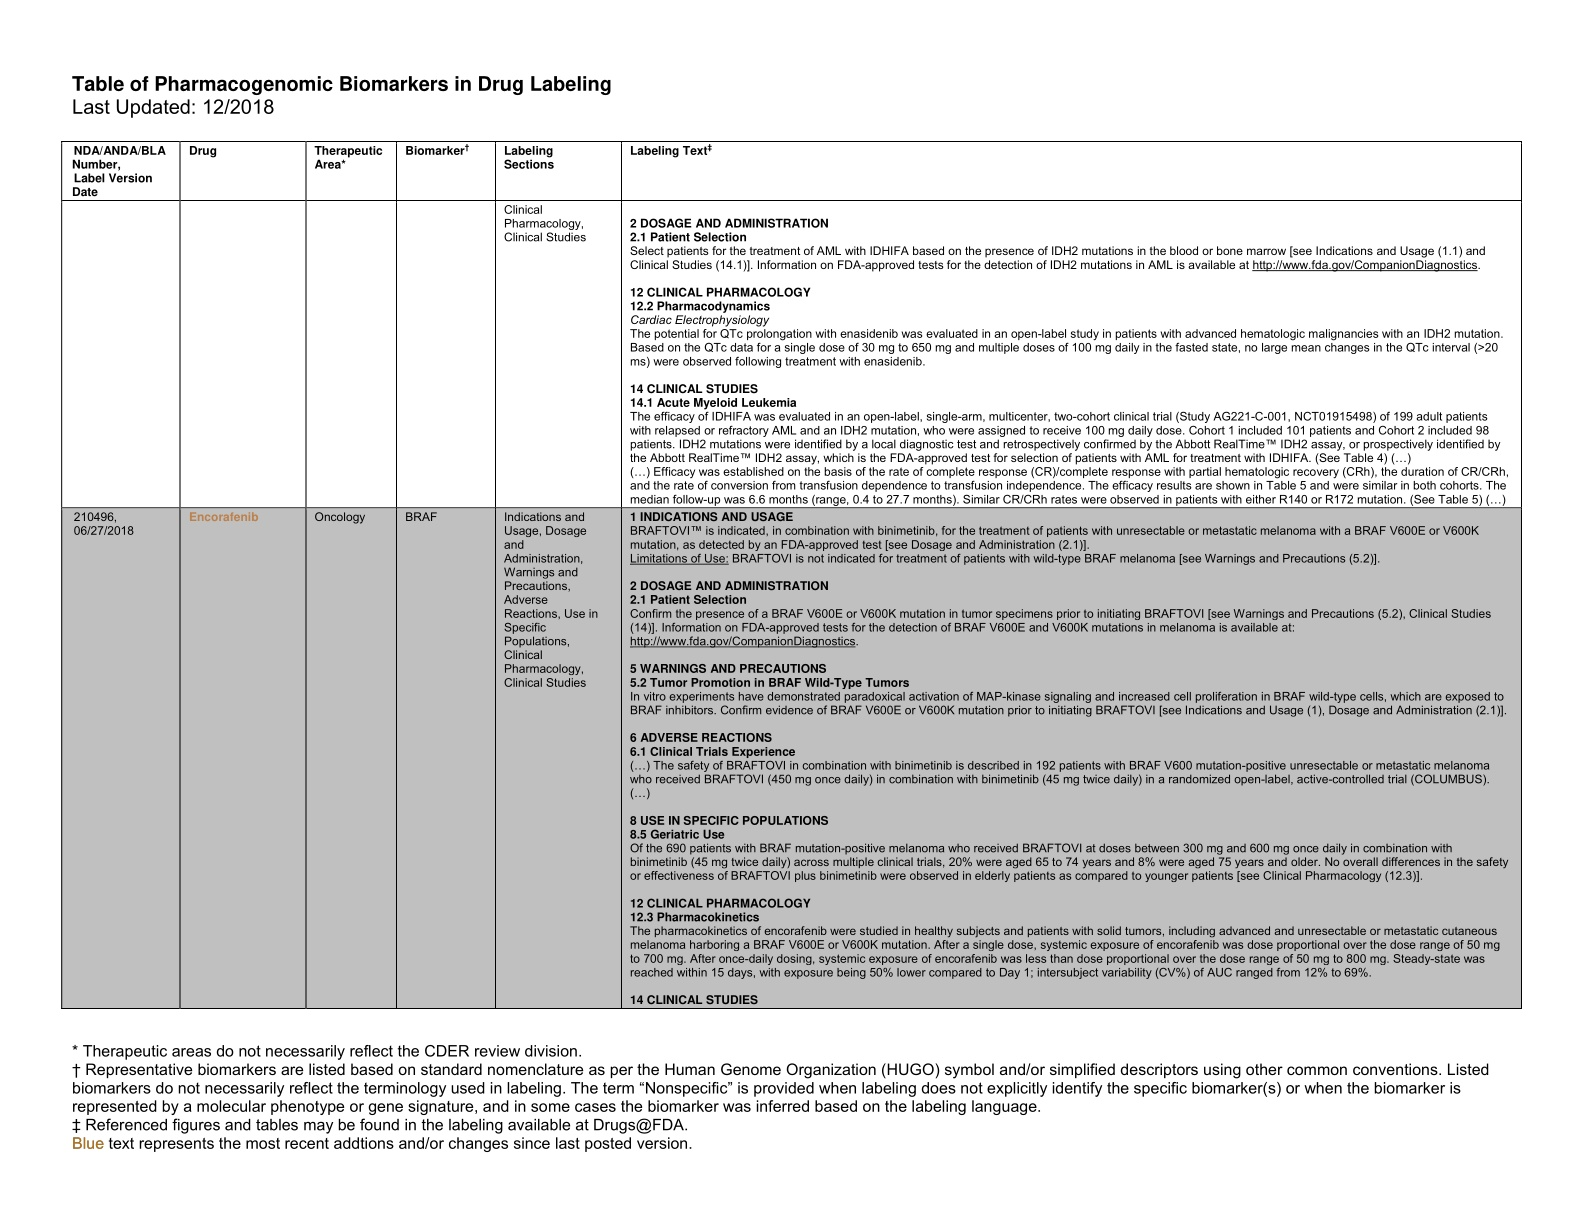full_lined: (60, 140, 1524, 1011)
